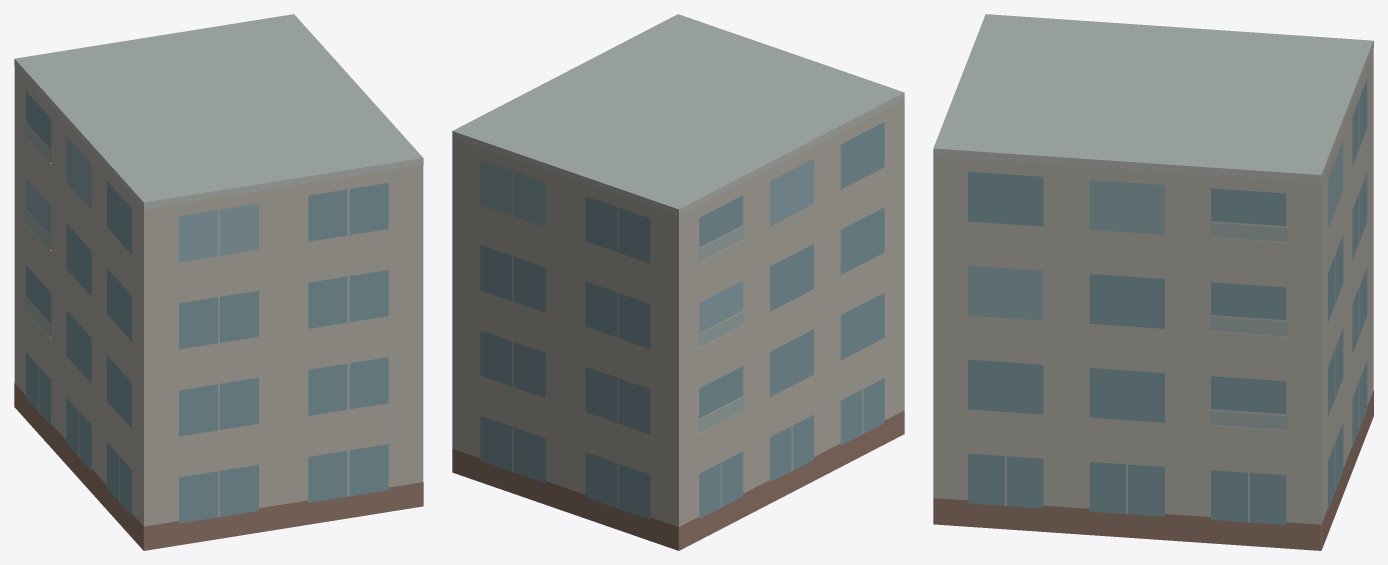
The model's file is survey-upis-32797578.glb.
The picture shows the model from 3 angles, left to right: view 1: azimuth 30°, elevation 25°; view 2: azimuth 150°, elevation 25°; view 3: azimuth 270°, elevation 25°; orthographic projection. The views are drawn at different scales.
Visible parts, largest first — view 1: survey-upis-32797578.tmp; view 2: survey-upis-32797578.tmp; view 3: survey-upis-32797578.tmp.
Part boxes in pixels (x1,y1,x2,y2): survey-upis-32797578.tmp: [14, 14, 423, 550]; survey-upis-32797578.tmp: [452, 14, 904, 550]; survey-upis-32797578.tmp: [933, 14, 1373, 550].
Bounding box in the file's own units: 11.22 × 12.2 × 12.97.
